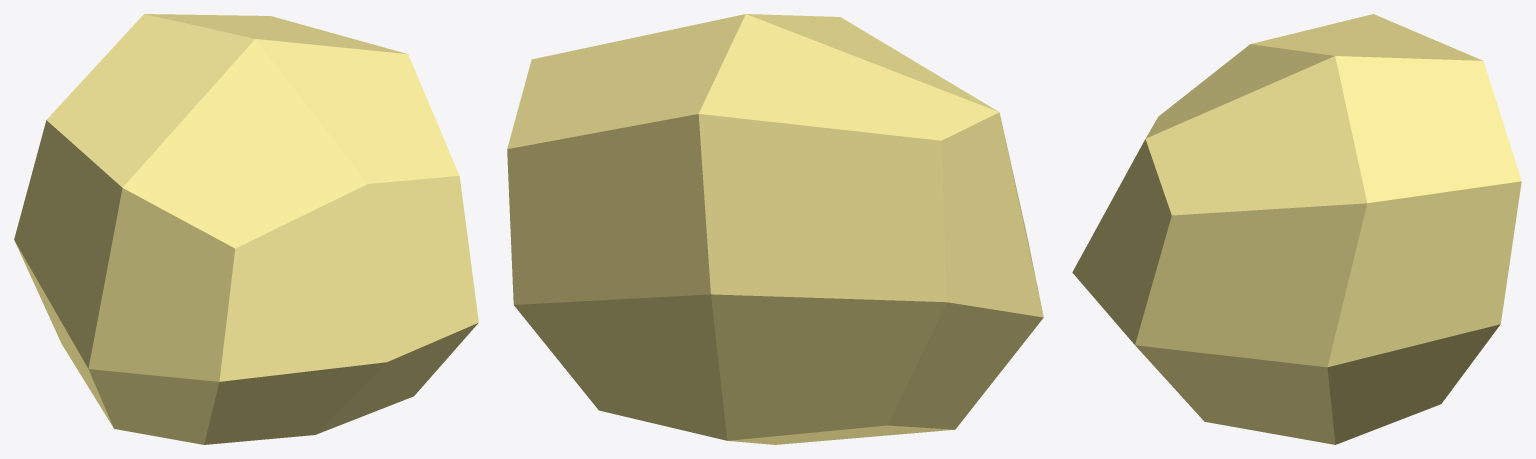
Rendered from Rock01.fbx.
3 views of the same model, side by side, from view 1: azimuth 30°, elevation 25°; view 2: azimuth 150°, elevation 25°; view 3: azimuth 270°, elevation 25° (orthographic). The views are drawn at different scales.
Parts seen in each view (by area): view 1: Cube.013; view 2: Cube.013; view 3: Cube.013.
Boxes of the visible parts, x1,y1,x2,y2 form: Cube.013: [14, 14, 478, 444]; Cube.013: [507, 14, 1043, 444]; Cube.013: [1072, 14, 1521, 444].
Bounding box in the file's own units: 770 × 643 × 740.
